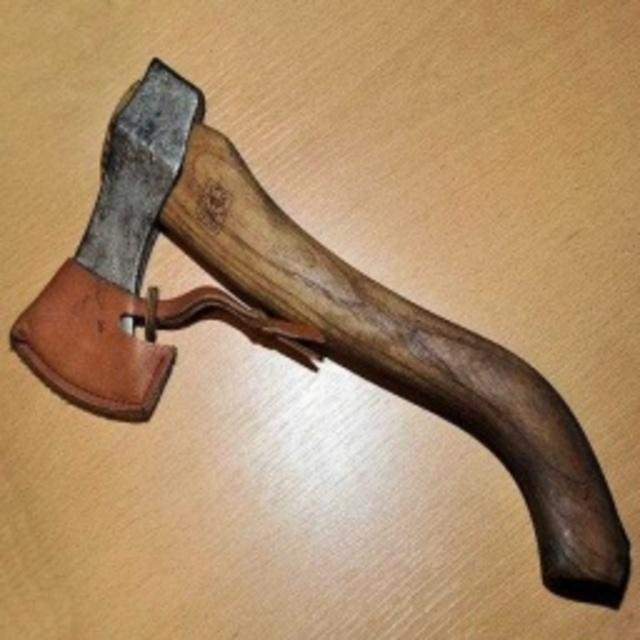ax: (4, 44, 640, 620)
